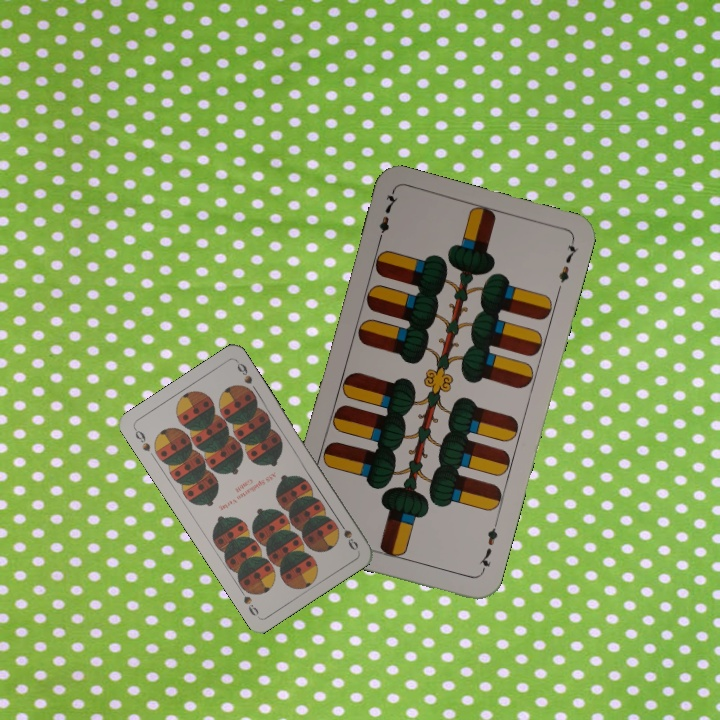E7: (373, 188, 401, 247), (475, 517, 501, 576)
S9: (334, 516, 361, 553), (130, 424, 153, 454)
